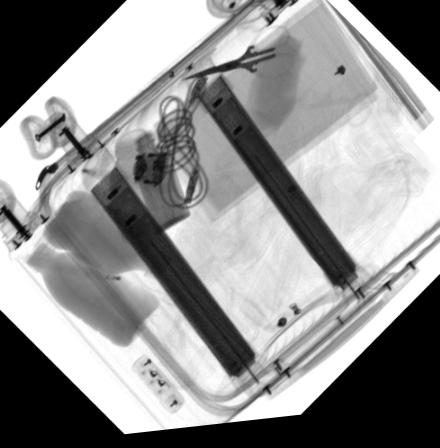Scissors: (177, 27, 296, 83)
